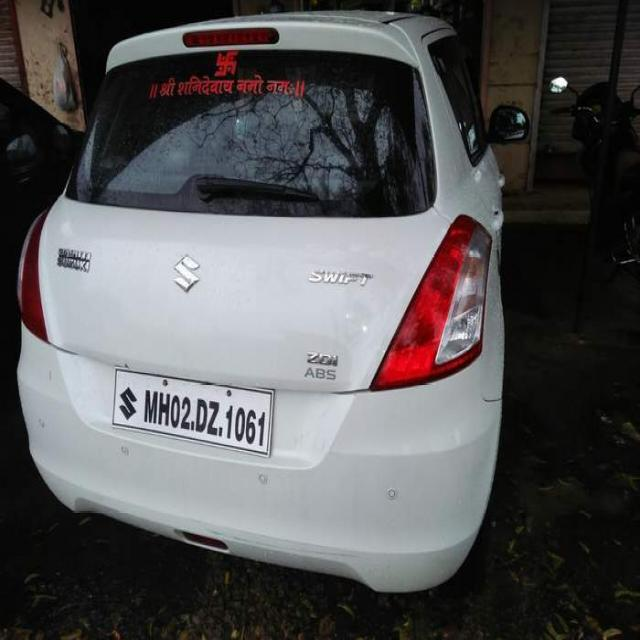Number-Plate: (112, 373, 272, 459)
